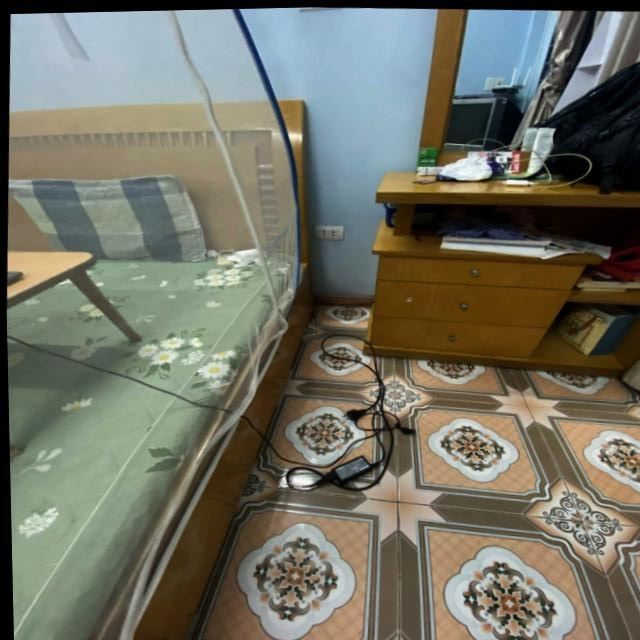outlet: (315, 225, 346, 240)
